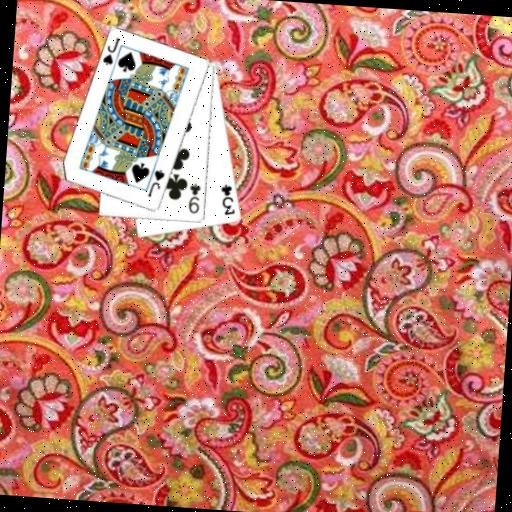3C: (217, 181, 239, 218)
9C: (186, 180, 203, 216)
JS: (145, 166, 167, 200), (100, 34, 122, 68)
